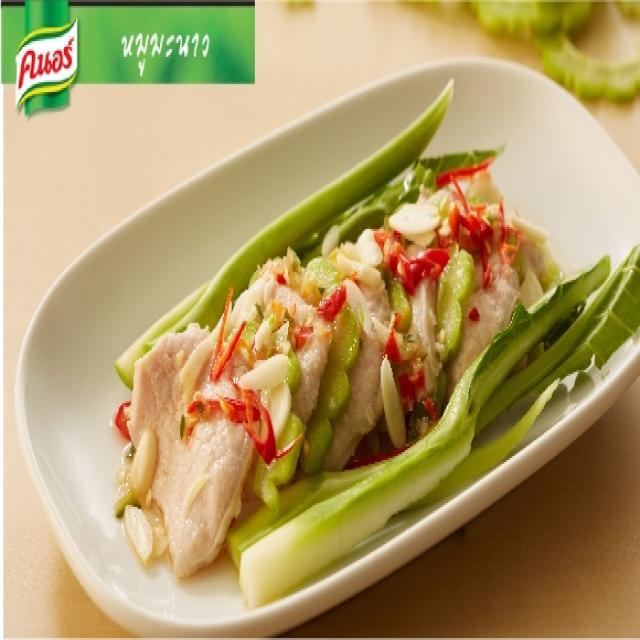猪肉菜式: (43, 127, 587, 560)
